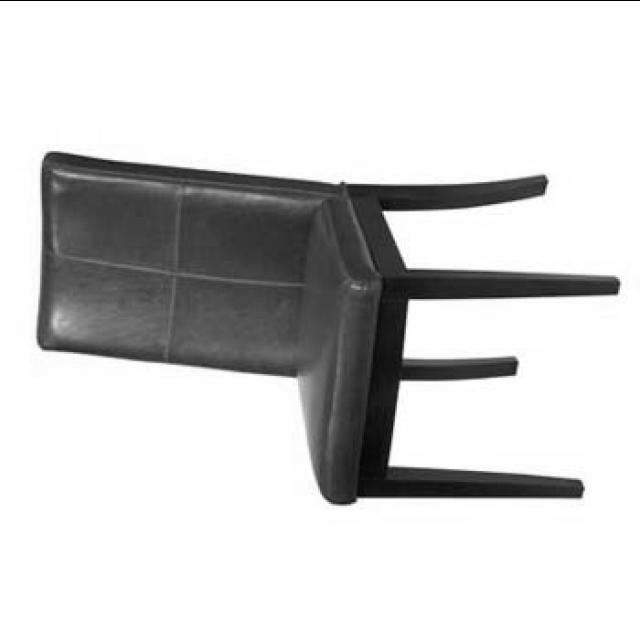chair: (33, 145, 621, 506)
